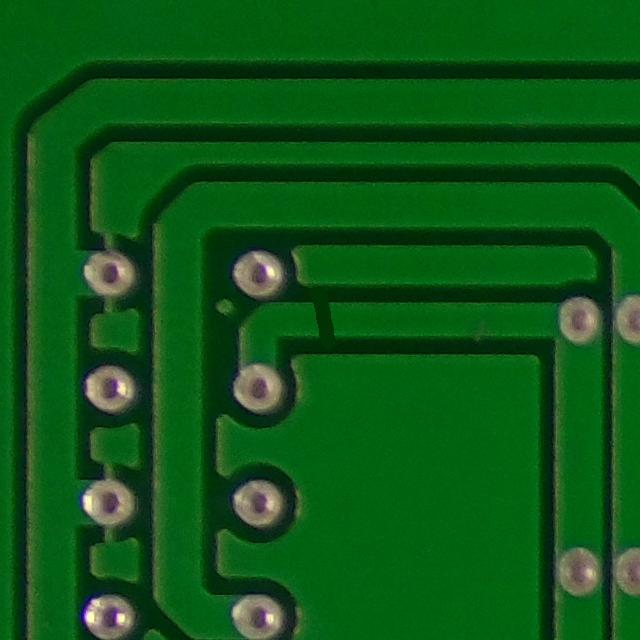open_circuit: (290, 291, 350, 349)
